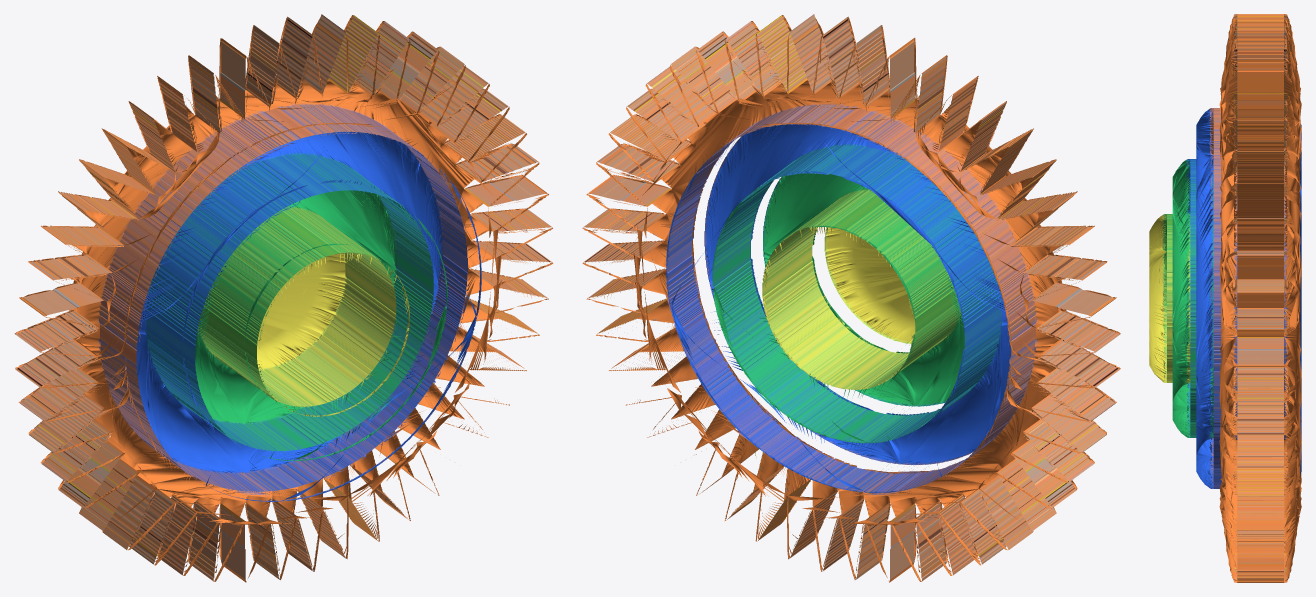
File: sunburst.glb
3 views of the same model, side by side, from view 1: azimuth 30°, elevation 25°; view 2: azimuth 150°, elevation 25°; view 3: azimuth 270°, elevation 25° (orthographic). The views are drawn at different scales.
Visible parts, largest first — view 1: layer-0; view 2: layer-0; view 3: layer-0.
Boxes of the visible parts, <box> form: layer-0: <box>14,14,553,582</box>; layer-0: <box>582,14,1120,582</box>; layer-0: <box>1149,14,1301,582</box>.
Bounding box in the file's own units: 0.9707 × 0.9707 × 0.26.
1 material, 1 textured.
